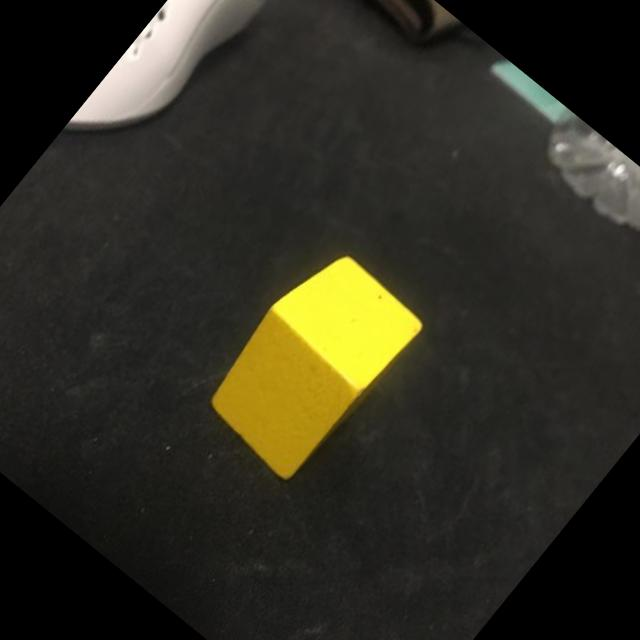yellow: (192, 239, 430, 489)
